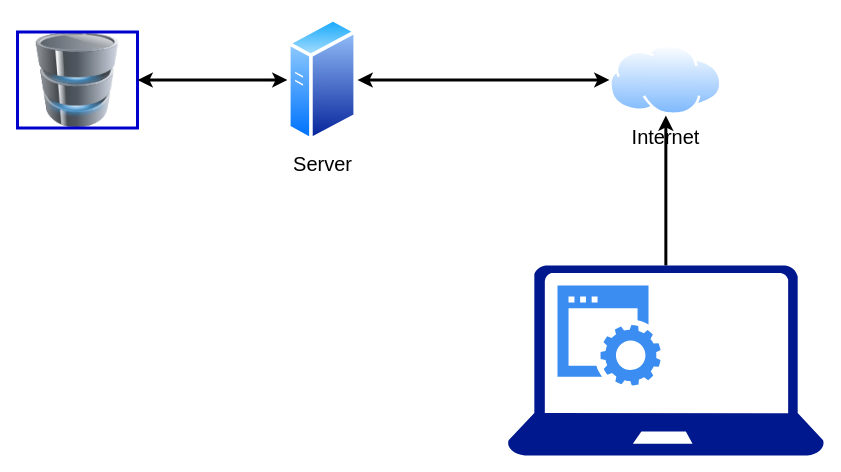
Image size: 841x472. Some labels were removed from this diagram. The shapes that lost their labels are listed below. From the top down, each one's box as (x1, y1, x2, y2) in pixels, then its label:
(17, 32, 137, 128): Database
(557, 285, 660, 385): WEBSITE
